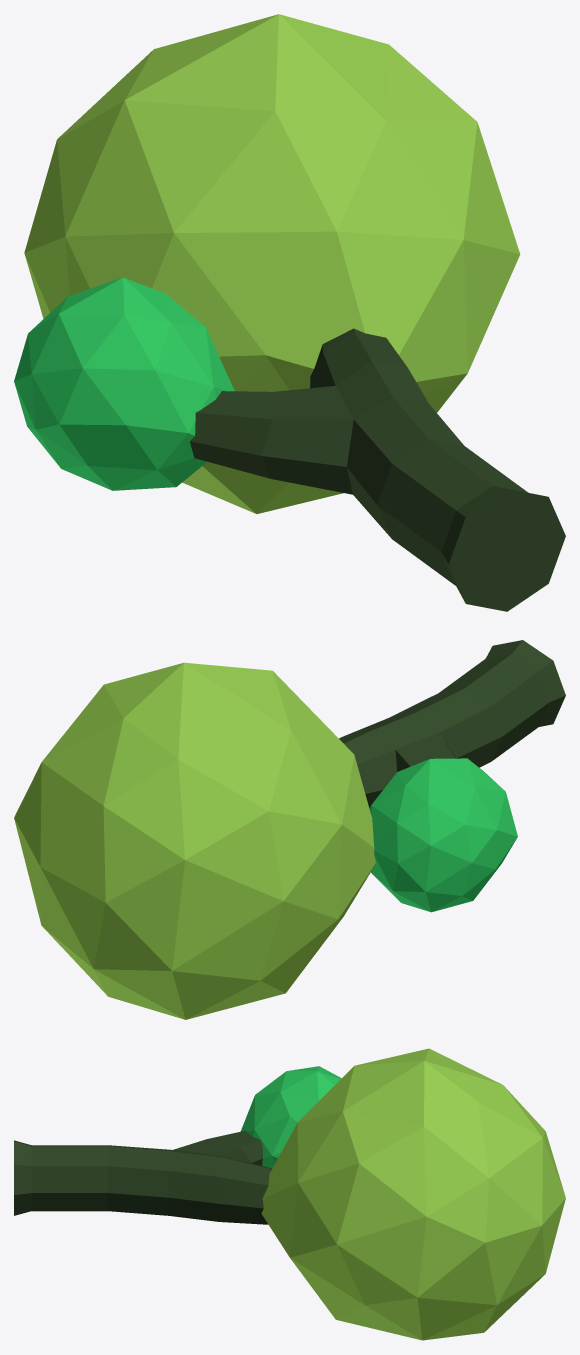
Rendered from OakTree_3.fbx.
3 views of the same model, one above another, from view 1: azimuth 30°, elevation 25°; view 2: azimuth 150°, elevation 25°; view 3: azimuth 270°, elevation 25° (orthographic). The views are drawn at different scales.
Parts seen in each view (by area): view 1: OakTree_3; view 2: OakTree_3; view 3: OakTree_3.
Part boxes in pixels (x1=…): OakTree_3: x1=14, y1=14, x2=565, y2=611; OakTree_3: x1=14, y1=640, x2=565, y2=1019; OakTree_3: x1=14, y1=1048, x2=565, y2=1340.
Size of the model in its own units: 414 by 335 by 628.
